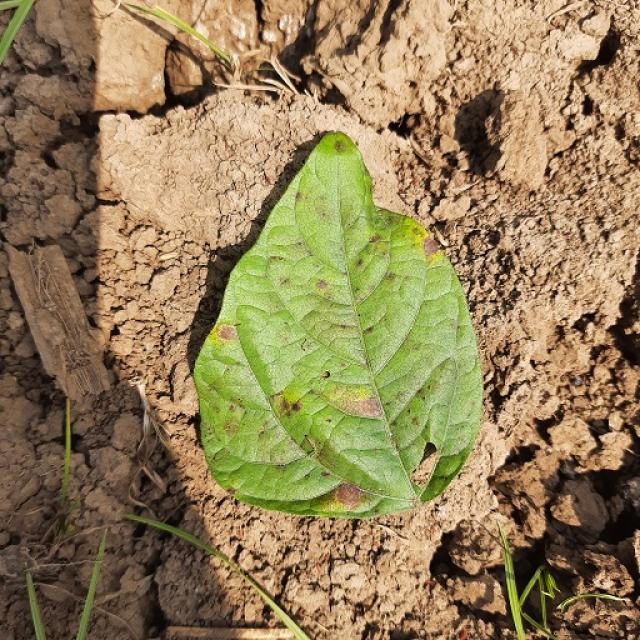Anthracnose: (335, 474, 367, 510), (276, 394, 303, 418), (355, 396, 382, 417), (417, 441, 438, 466), (422, 236, 441, 257), (222, 417, 241, 437), (217, 324, 239, 341), (333, 139, 347, 152), (315, 279, 328, 290), (368, 233, 382, 243), (409, 497, 419, 510), (412, 226, 423, 236), (295, 191, 303, 201), (321, 370, 330, 378)
Blackgram: (195, 132, 479, 516)
